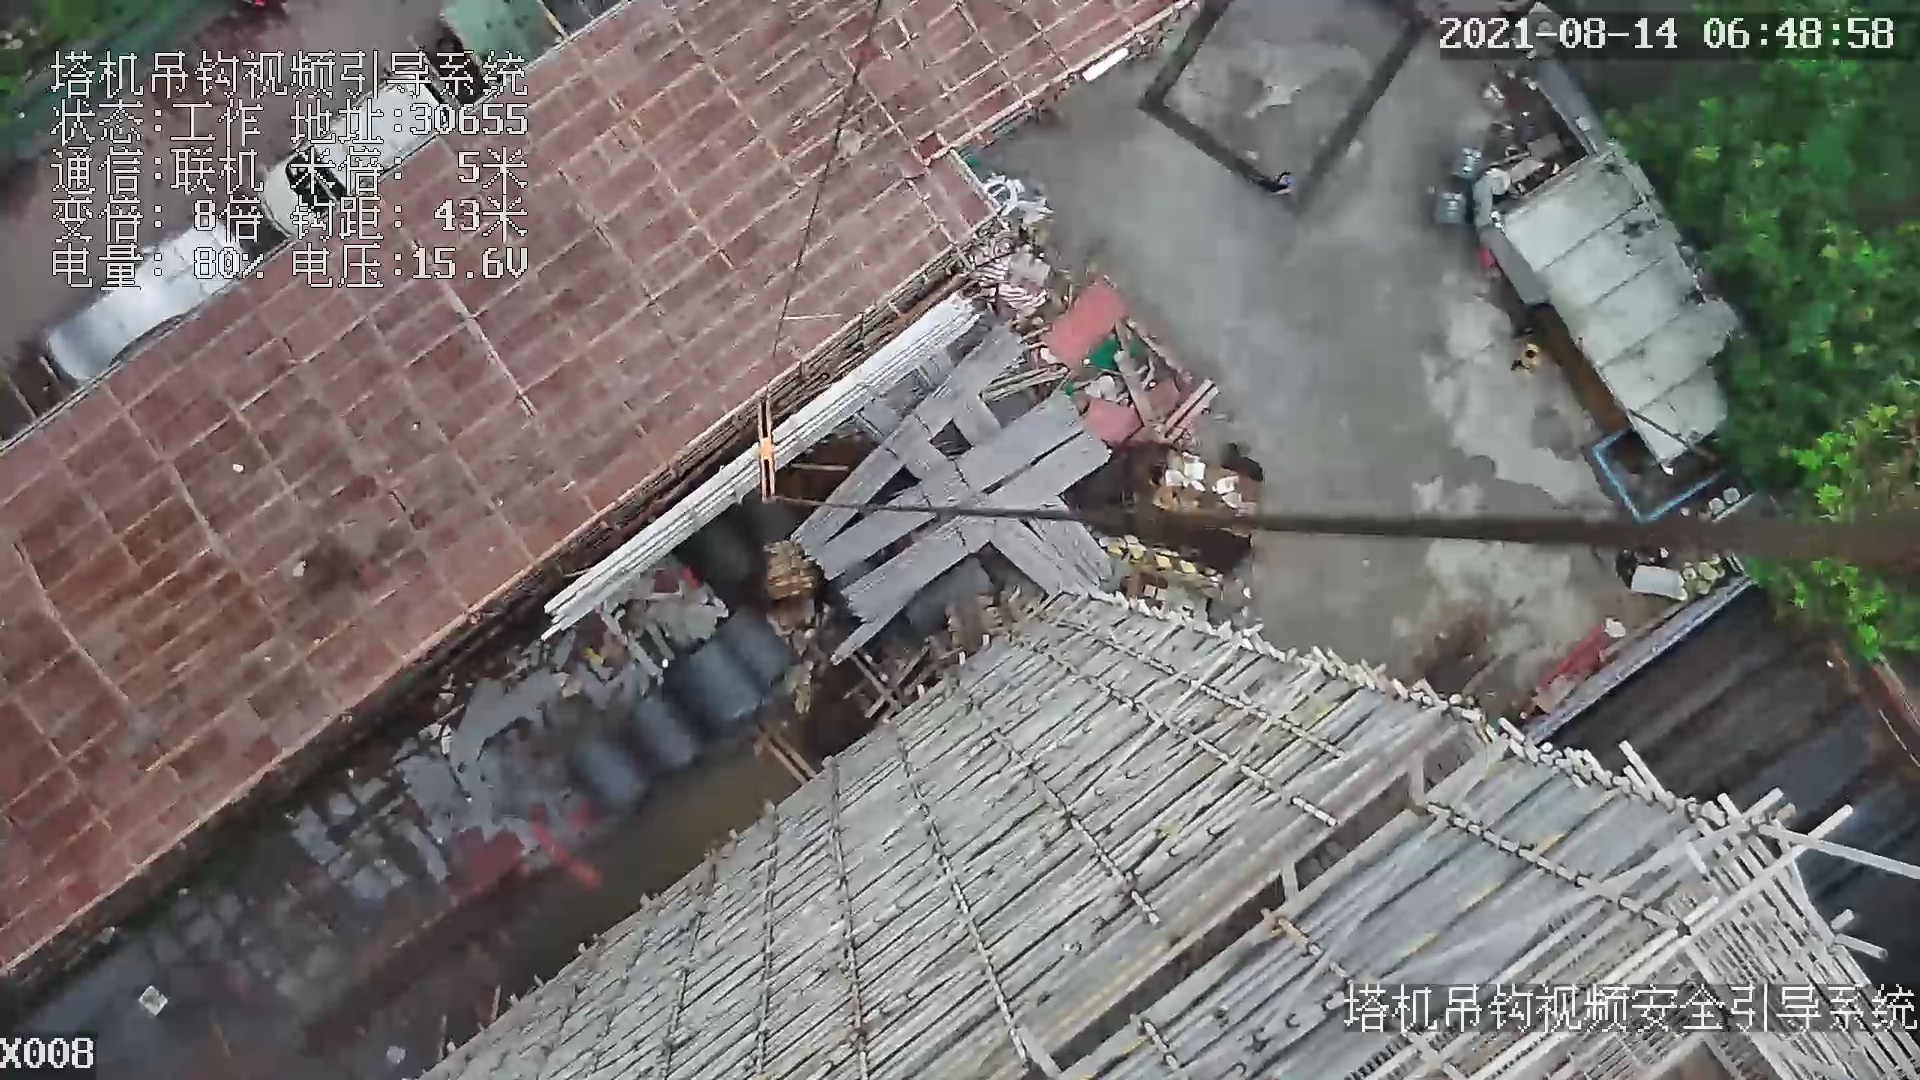hook: (746, 396, 787, 505)
hopper: (1584, 428, 1747, 532)
person: (1512, 343, 1543, 374), (1270, 169, 1295, 201)
